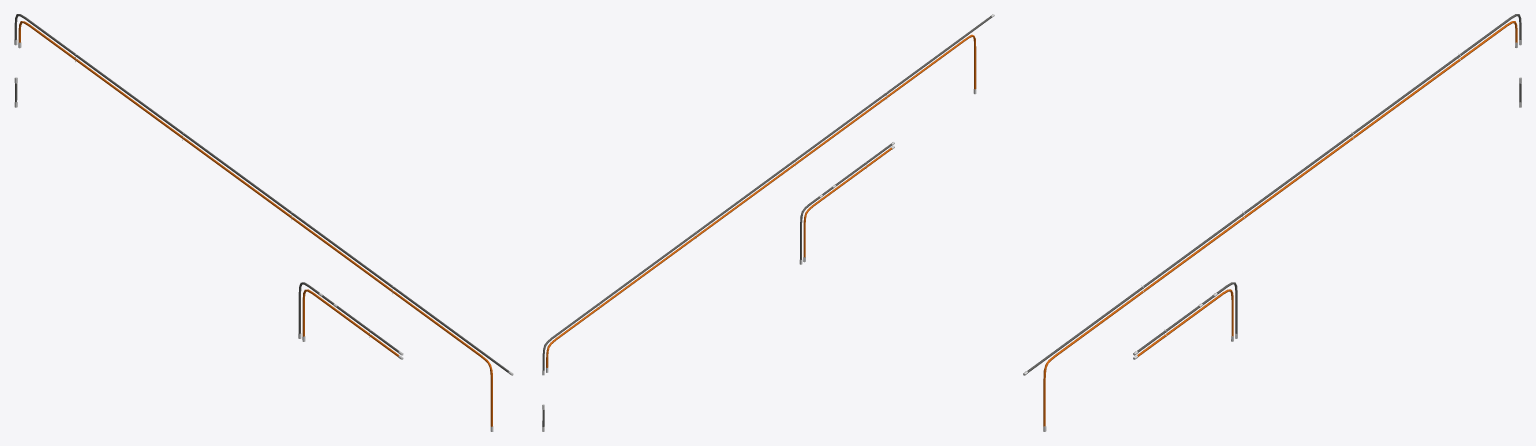
The model's file is SM_H_Building_FutureTech_Laboratory_01_InterWall_06_36_ATLAS.fbx.
3 renders of one model, left to right at view 1: azimuth 30°, elevation 25°; view 2: azimuth 150°, elevation 25°; view 3: azimuth 330°, elevation 25°, orthographic. The views are drawn at different scales.
Visible parts, largest first — view 1: SM_H_Building_FutureTech_Laboratory_01_InterWall_06_36_ATLAS; view 2: SM_H_Building_FutureTech_Laboratory_01_InterWall_06_36_ATLAS; view 3: SM_H_Building_FutureTech_Laboratory_01_InterWall_06_36_ATLAS.
Boxes of the visible parts, x1,y1,x2,y2 form: SM_H_Building_FutureTech_Laboratory_01_InterWall_06_36_ATLAS: (14, 14, 513, 431); SM_H_Building_FutureTech_Laboratory_01_InterWall_06_36_ATLAS: (542, 14, 994, 431); SM_H_Building_FutureTech_Laboratory_01_InterWall_06_36_ATLAS: (1023, 14, 1521, 431).
Size of the model in its own units: 3.73 by 1273 by 172.
